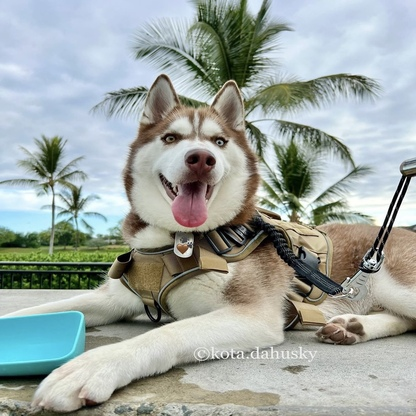husky: (4, 71, 415, 414)
